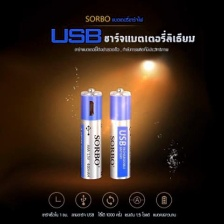battery: (79, 86, 103, 179), (108, 86, 130, 179)
